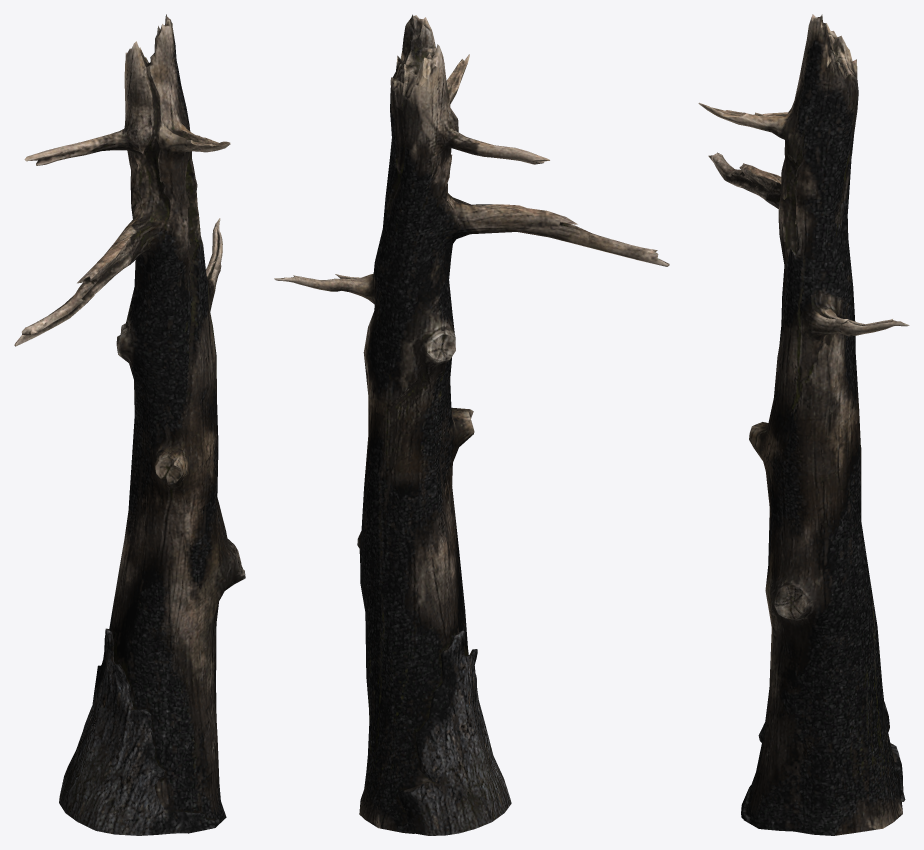
Rendered from LobbyTree.fbx.
3 renders of one model, left to right at view 1: azimuth 30°, elevation 25°; view 2: azimuth 150°, elevation 25°; view 3: azimuth 270°, elevation 25°, orthographic. The views are drawn at different scales.
Visible parts, largest first — view 1: SM_ASY_BurntTree_Stump_02.mo; view 2: SM_ASY_BurntTree_Stump_02.mo; view 3: SM_ASY_BurntTree_Stump_02.mo.
Part boxes in pixels (bbox=[...]): SM_ASY_BurntTree_Stump_02.mo: bbox=[14, 14, 245, 835]; SM_ASY_BurntTree_Stump_02.mo: bbox=[274, 14, 669, 835]; SM_ASY_BurntTree_Stump_02.mo: bbox=[698, 14, 909, 835].
Bounding box in the file's own units: 174 × 436 × 104.
